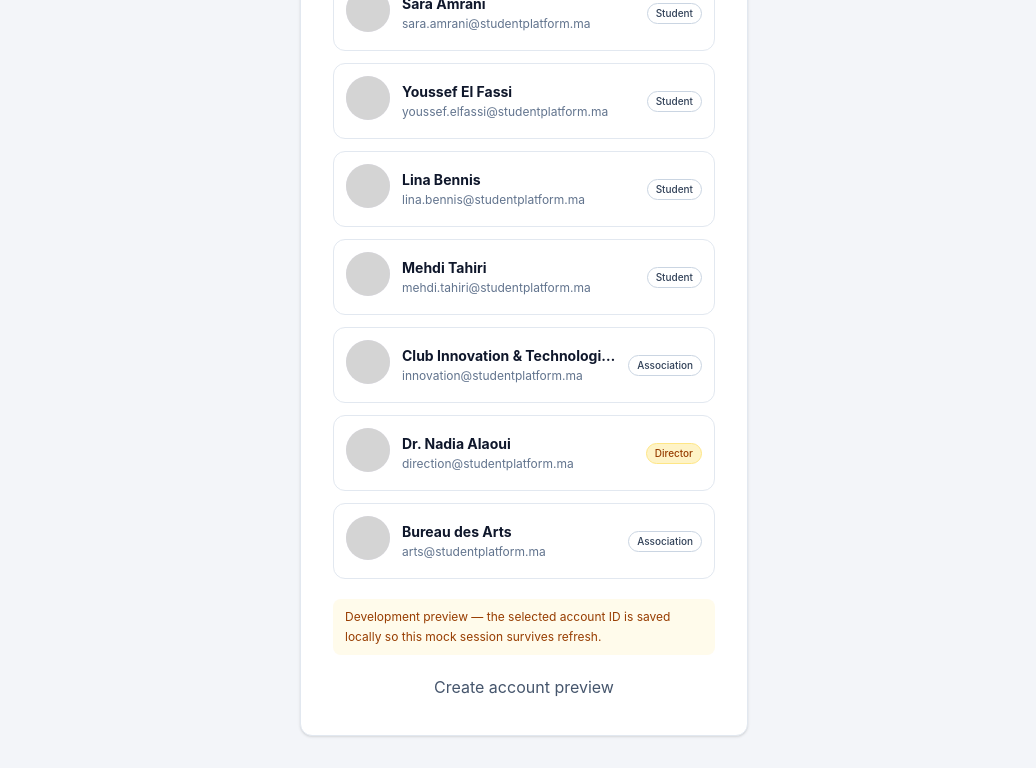
Scenario: MockLoginPage › authenticates the selected Director and lands on the Director dashboard
(page scrolled)
What coordinates should you click on to do the following:
click the button "Dr. Nadia Alaoui direction@studentplatform.ma Director"
I would click on:
 (524, 453)
Its box is [333,415,715,491].
(page scrolled)
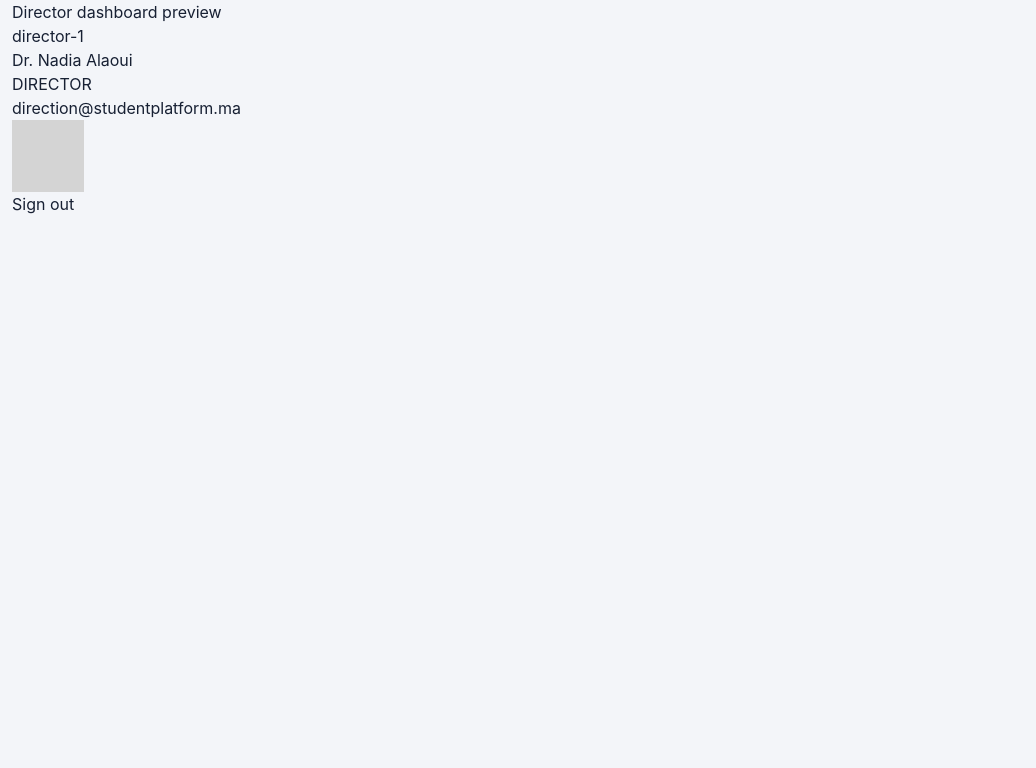
Expected: the heading "Director dashboard preview" is shown, [12,2,222,22]
Expected: the text "director-1" is shown, [12,26,84,46]
Expected: the text "DIRECTOR" is shown, [12,74,92,94]
